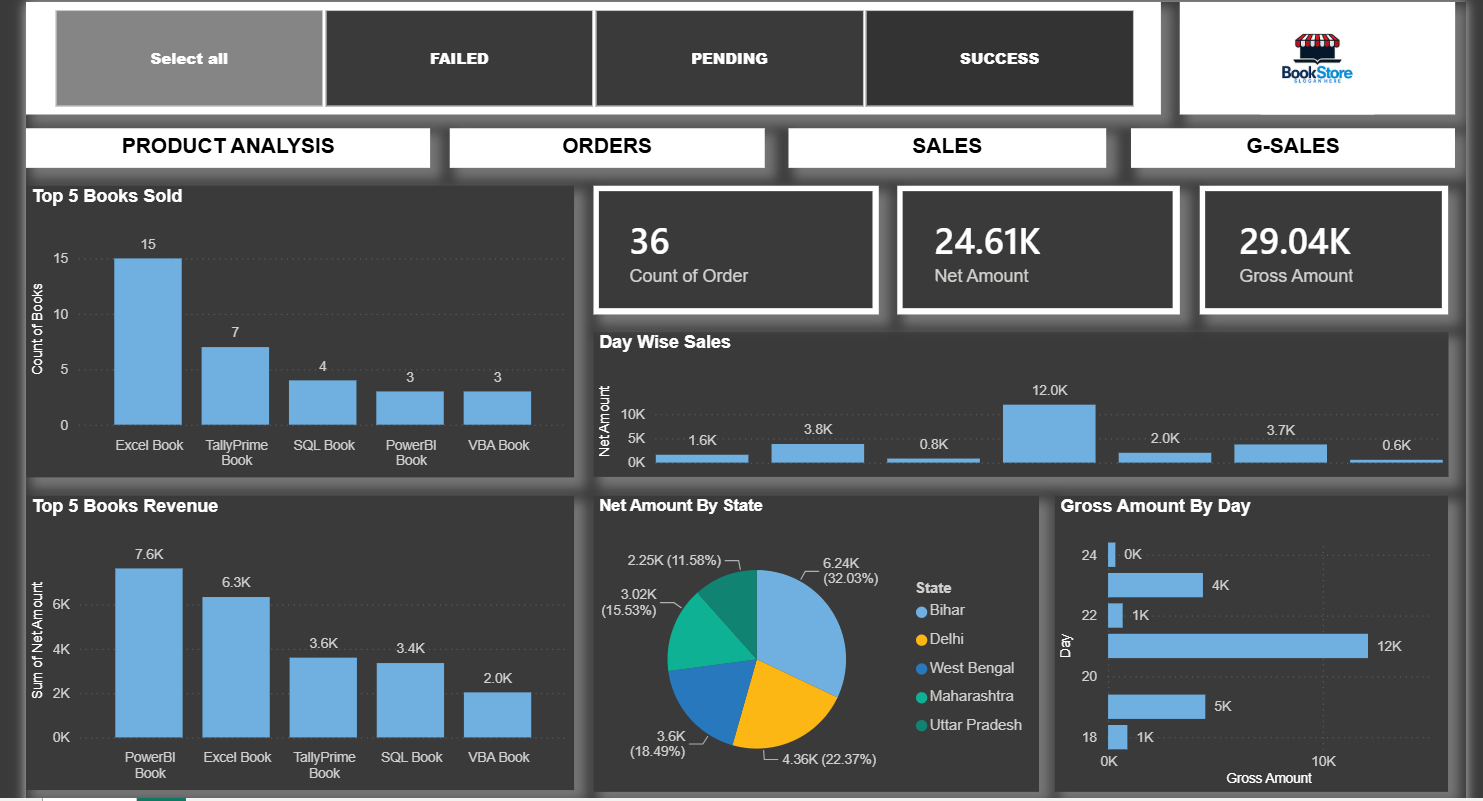

This screenshot's page, from the dashboard's own definition file:
{"tool":"powerbi","page":{"name":"Page 1","canvas":[1280,720],"ordinal":0},"visuals":[{"type":"slicer","fields":{"Values":["7 Days Books Sales Report File.Payment Status"]},"box":[0,0,1008.6,100.1],"z":0},{"type":"image","box":[1025.5,0,244.9,100.1],"z":1000},{"type":"textbox","box":[0,112.2,359.5,35],"z":2000},{"type":"textbox","box":[376.4,112.2,279.9,35],"z":3000},{"type":"textbox","box":[678,112.2,282.3,35],"z":4000},{"type":"textbox","box":[982,112.2,288.3,35],"z":5000},{"type":"clusteredColumnChart","title":"Top 5 Books Sold","fields":{"Category":["7 Days Books Sales Report File.Books"],"Y":["CountNonNull(7 Days Books Sales Report File.Books)"]},"box":[0,162.9,487.4,259.4],"z":6000},{"type":"clusteredColumnChart","title":"Top 5 Books Revenue","fields":{"Category":["7 Days Books Sales Report File.Books"],"Y":["Sum(7 Days Books Sales Report File.Net Amount)"]},"box":[0,439.1,487.4,261.8],"z":7000},{"type":"clusteredColumnChart","title":"Day Wise Sales","fields":{"Category":["7 Days Books Sales Report File.Order Date.Variation.Date Hierarchy.Day"],"Y":["Sum(7 Days Books Sales Report File.Net Amount)"]},"box":[504.3,293.2,760.1,129.1],"z":8000},{"type":"cardVisual","fields":{"Data":["CountNonNull(7 Days Books Sales Report File.OrderId)"]},"box":[504.3,162.9,253.4,114.6],"z":9000},{"type":"cardVisual","fields":{"Data":["Sum(7 Days Books Sales Report File.Net Amount)"]},"box":[774.5,162.9,250.9,114.6],"z":10000},{"type":"cardVisual","fields":{"Data":["Sum(7 Days Books Sales Report File.Gross Amount)"]},"box":[1043.6,162.9,220.8,114.6],"z":11000},{"type":"pieChart","title":"Net Amount By State","fields":{"Category":["7 Days Books Sales Report File.State"],"Y":["Sum(7 Days Books Sales Report File.Net Amount)"]},"box":[504.3,439.1,395.7,263],"z":12000},{"type":"clusteredBarChart","title":"Gross Amount By Day","fields":{"Category":["7 Days Books Sales Report File.Order Date.Variation.Date Hierarchy.Day"],"Y":["Sum(7 Days Books Sales Report File.Gross Amount)"]},"box":[914.5,439.1,349.9,263],"z":13000}]}

Visuals, with their boxes in screenshot pixels (x1, y1, x2, y2):
slicer - 7 Days Books Sales Report File.Payment Status: {"left": 19, "top": 0, "right": 1164, "bottom": 110}
image: {"left": 1183, "top": 0, "right": 1461, "bottom": 110}
textbox: {"left": 19, "top": 124, "right": 427, "bottom": 163}
textbox: {"left": 447, "top": 124, "right": 764, "bottom": 163}
textbox: {"left": 789, "top": 124, "right": 1109, "bottom": 163}
textbox: {"left": 1134, "top": 124, "right": 1461, "bottom": 163}
"Top 5 Books Sold" clusteredColumnChart: {"left": 19, "top": 181, "right": 573, "bottom": 476}
"Top 5 Books Revenue" clusteredColumnChart: {"left": 19, "top": 495, "right": 573, "bottom": 792}
"Day Wise Sales" clusteredColumnChart: {"left": 592, "top": 329, "right": 1455, "bottom": 476}
cardVisual - CountNonNull(7 Days Books Sales Report File.OrderId): {"left": 592, "top": 181, "right": 879, "bottom": 311}
cardVisual - Sum(7 Days Books Sales Report File.Net Amount): {"left": 899, "top": 181, "right": 1183, "bottom": 311}
cardVisual - Sum(7 Days Books Sales Report File.Gross Amount): {"left": 1204, "top": 181, "right": 1455, "bottom": 311}
"Net Amount By State" pieChart: {"left": 592, "top": 495, "right": 1041, "bottom": 793}
"Gross Amount By Day" clusteredBarChart: {"left": 1057, "top": 495, "right": 1455, "bottom": 793}
